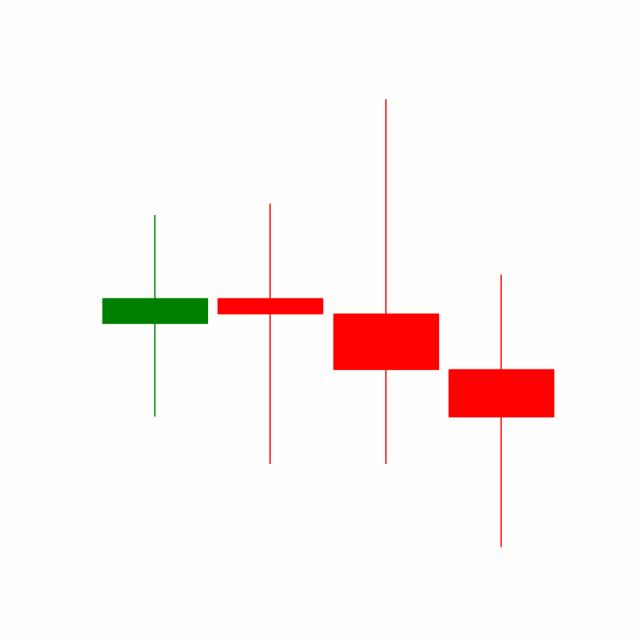Spinning Top: (443, 270, 559, 550)
